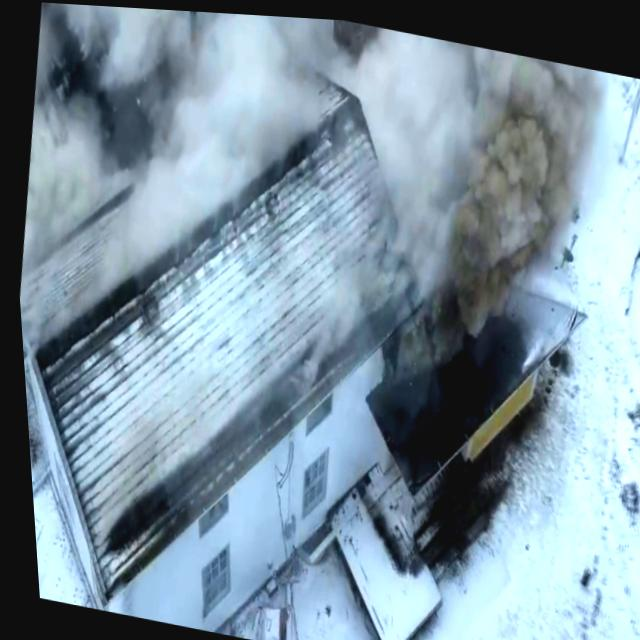smoke: (411, 34, 592, 342)
